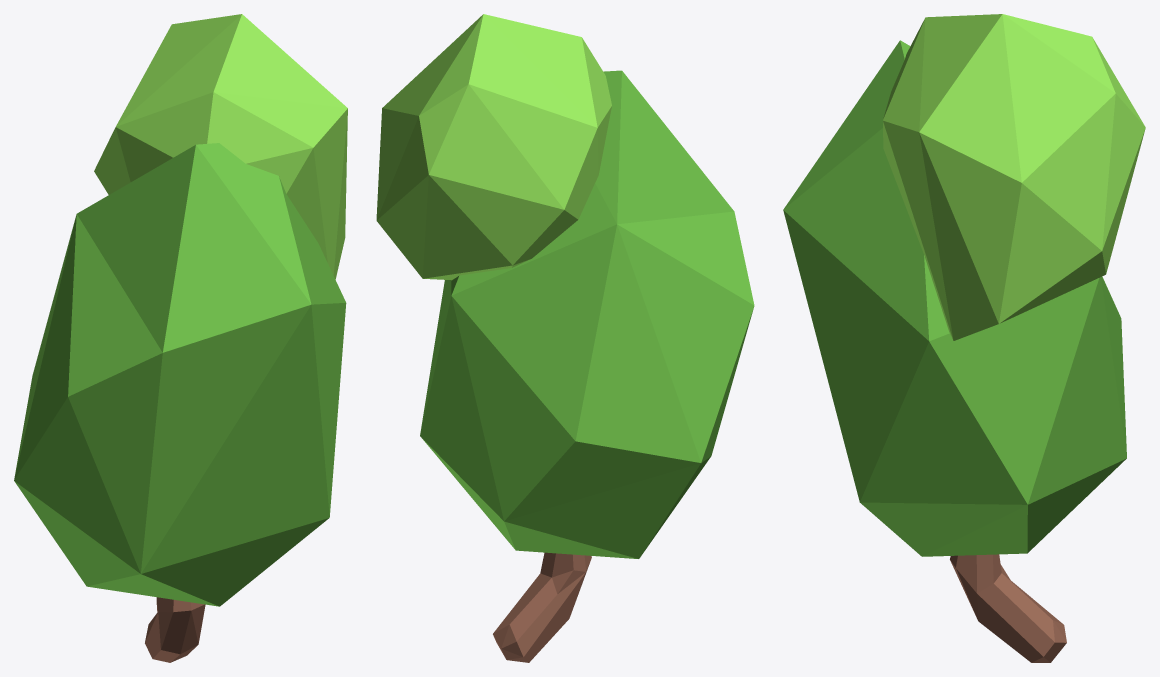
File: Tree_04.fbx
The picture shows the model from 3 angles, left to right: view 1: azimuth 30°, elevation 25°; view 2: azimuth 150°, elevation 25°; view 3: azimuth 270°, elevation 25°; orthographic projection. The views are drawn at different scales.
Visible parts, largest first — view 1: Cube.041; view 2: Cube.041; view 3: Cube.041.
Boxes of the visible parts, x1,y1,x2,y2 form: Cube.041: (14,14,347,662); Cube.041: (376,14,754,662); Cube.041: (783,14,1145,662).
Size of the model in its own units: 97.17 by 182 by 88.72.
